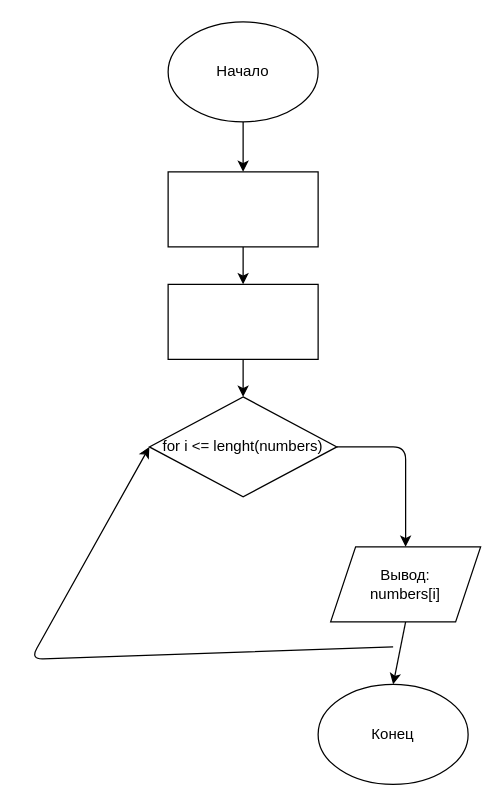
The diagram is 503 pixels wide and 806 high, and some of its shapes have lost their labels. Each missing label, with the centre of its shape:
"i = 0" belongs at point (242, 321).
"int [] numbers" belongs at point (242, 209).
